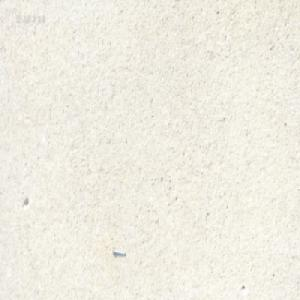Nail: (110, 247, 125, 256)
